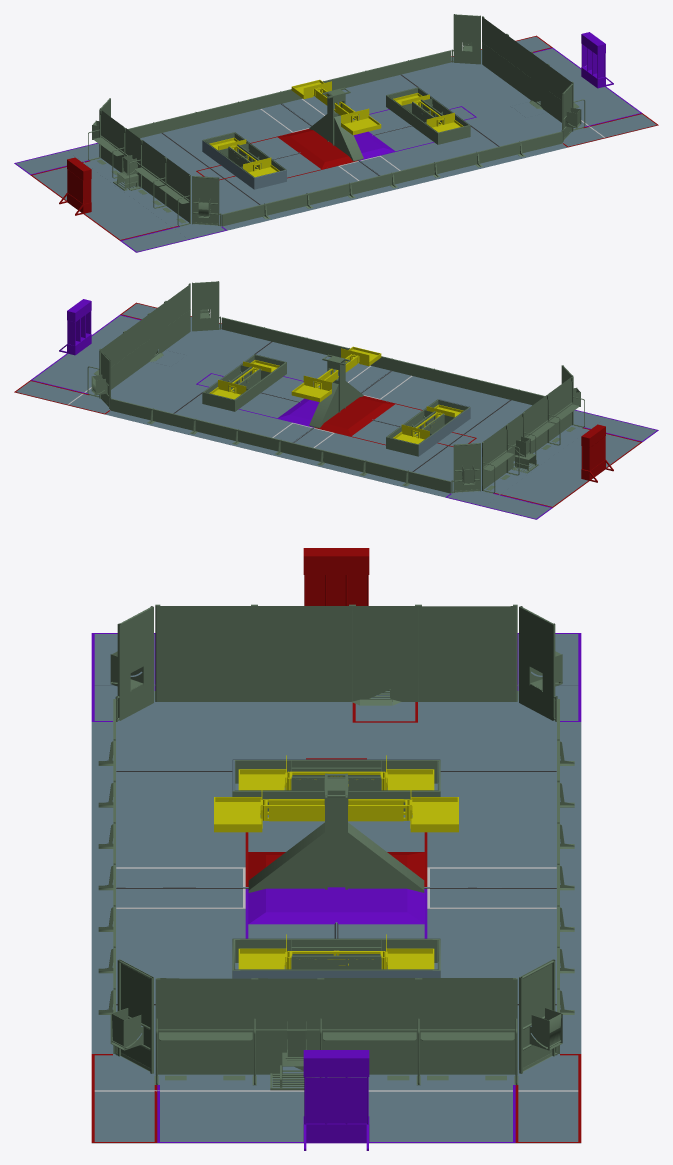
File: Arena_01.fbx
The picture shows the model from 3 angles, top to bottom: view 1: azimuth 30°, elevation 25°; view 2: azimuth 150°, elevation 25°; view 3: azimuth 270°, elevation 25°; orthographic projection. The views are drawn at different scales.
Parts seen in each view (by area): view 1: ARENA, Upper_Arm, Lower_Arm1, Lower_Arm_2; view 2: ARENA, Upper_Arm, Lower_Arm1, Lower_Arm_2; view 3: ARENA, Upper_Arm, Lower_Arm1, Lower_Arm_2.
Part boxes in pixels (x1,y1,x2,y2): ARENA: (14, 14, 658, 252); Upper_Arm: (291, 79, 381, 135); Lower_Arm1: (209, 137, 279, 177); Lower_Arm_2: (393, 93, 463, 132); ARENA: (14, 281, 658, 519); Upper_Arm: (291, 346, 381, 402); Lower_Arm1: (393, 404, 463, 443); Lower_Arm_2: (209, 360, 279, 399); ARENA: (91, 548, 581, 1150); Upper_Arm: (214, 783, 458, 832); Lower_Arm1: (238, 755, 434, 790); Lower_Arm_2: (238, 934, 434, 969).
Size of the model in its own units: 2304 by 212 by 907.
